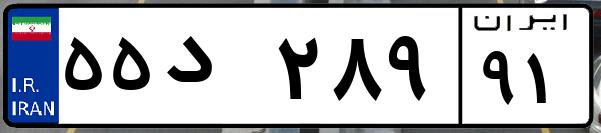1: (525, 38, 570, 115)
2: (270, 28, 330, 110)
5: (57, 26, 110, 100), (110, 28, 158, 98)
8: (330, 28, 385, 110)
9: (385, 28, 445, 110), (475, 38, 525, 113)
د: (158, 20, 270, 120)
